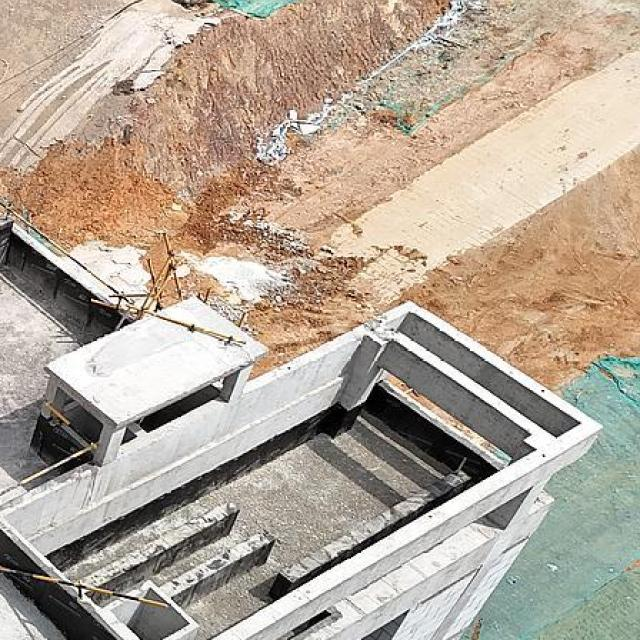edge_guardrail: (0, 202, 133, 308), (0, 403, 99, 496), (0, 566, 170, 610)
